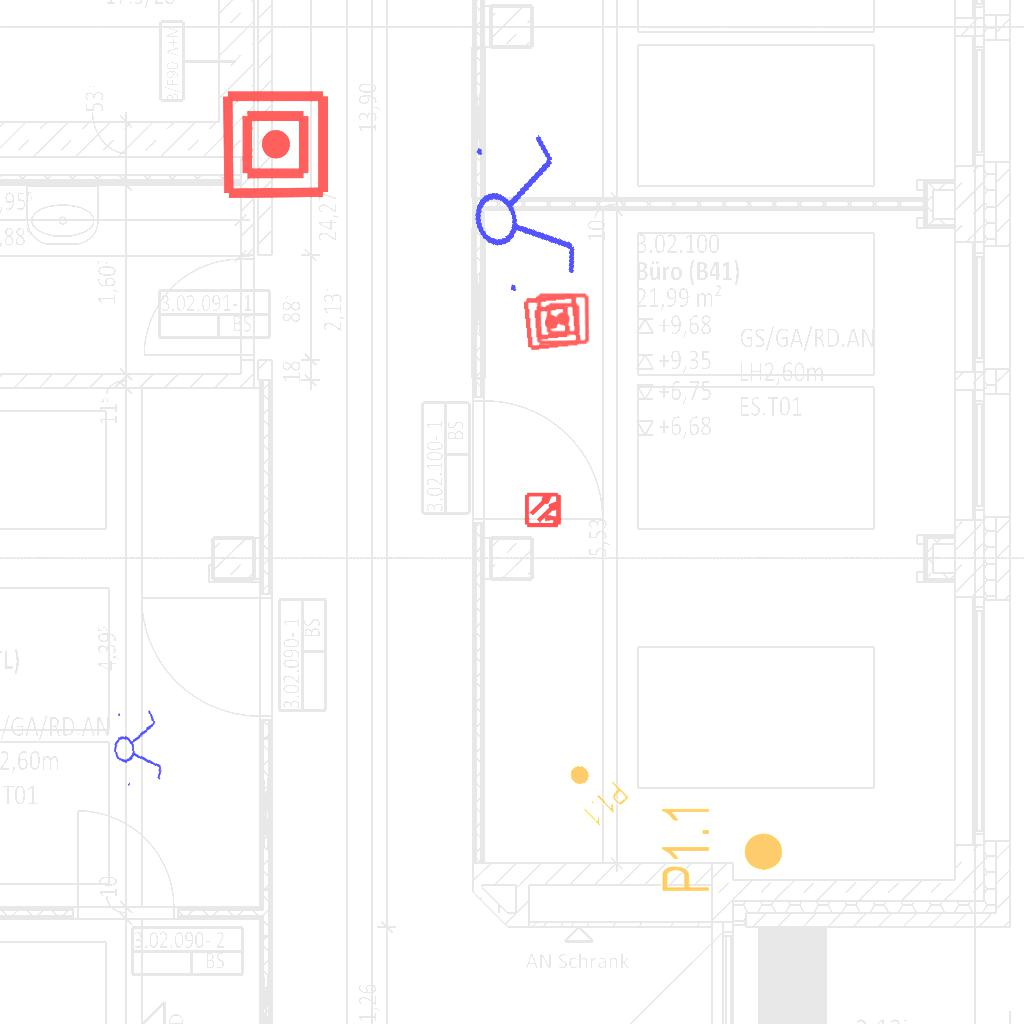Downlight_LED_Einbauleuchten_Flur: (658, 802, 786, 895), (554, 752, 632, 830)
NAM-Nichtautomatischer_Melder: (219, 88, 332, 201), (521, 291, 583, 353), (535, 291, 591, 347)
OT_Multisensormelder_(Kombination_RMO_WMD): (516, 482, 572, 538)
Serienschalter: (454, 118, 588, 306), (107, 702, 167, 792)
